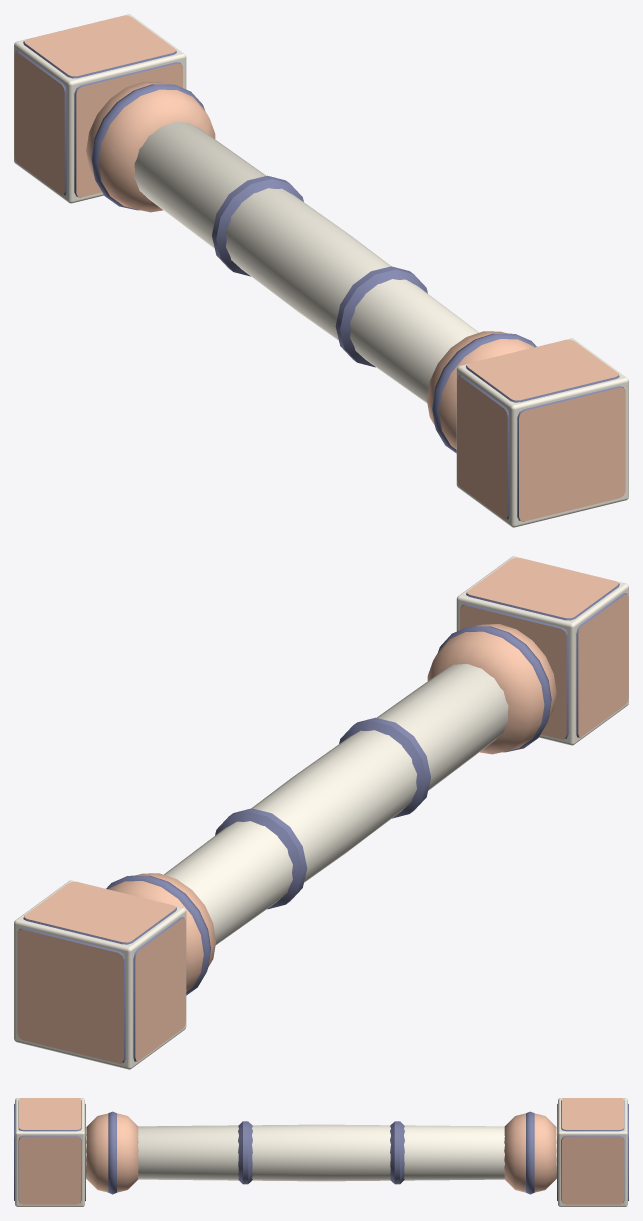
File: R4C_ROD_STANDARD.fbx
The picture shows the model from 3 angles, top to bottom: view 1: azimuth 30°, elevation 25°; view 2: azimuth 150°, elevation 25°; view 3: azimuth 270°, elevation 25°; orthographic projection. The views are drawn at different scales.
Visible parts, largest first — view 1: R4C_ROD_STANDARD; view 2: R4C_ROD_STANDARD; view 3: R4C_ROD_STANDARD.
Part boxes in pixels (x1,y1,x2,y2): R4C_ROD_STANDARD: (14, 14, 628, 527); R4C_ROD_STANDARD: (14, 556, 628, 1069); R4C_ROD_STANDARD: (14, 1098, 628, 1206).
Size of the model in its own units: 0.226 by 0.224 by 1.62.
